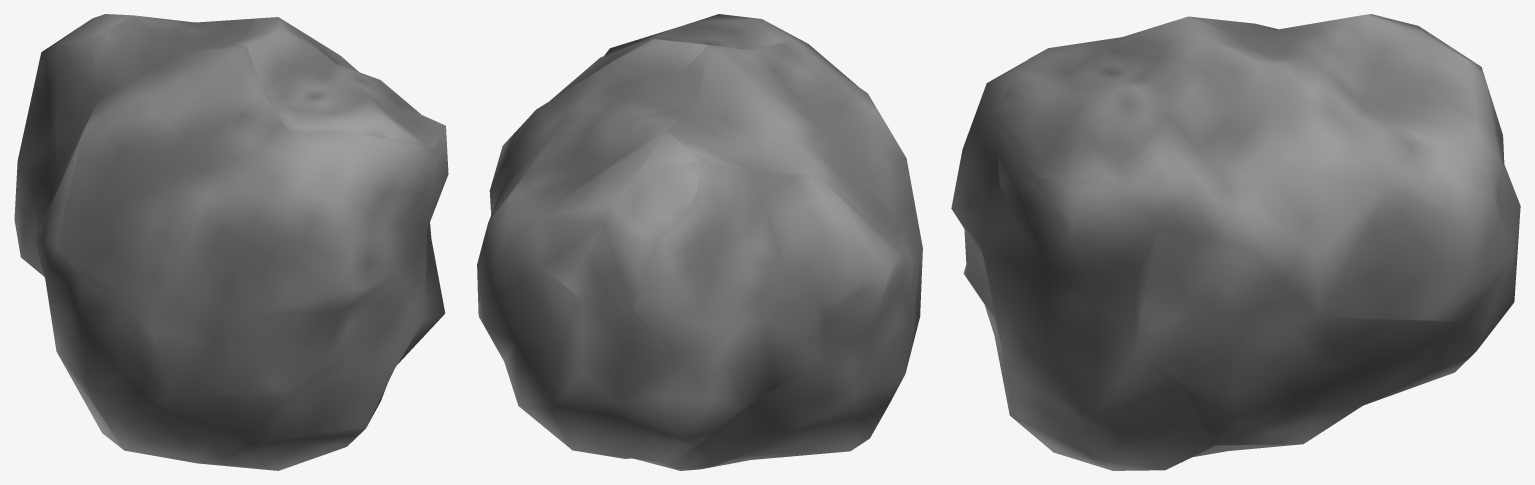
The model's file is AsteroidTypeB_Rock.fbx.
3 views of the same model, side by side, from view 1: azimuth 30°, elevation 25°; view 2: azimuth 150°, elevation 25°; view 3: azimuth 270°, elevation 25° (orthographic). The views are drawn at different scales.
Visible parts, largest first — view 1: Asteroid8_LOD1; view 2: Asteroid8_LOD1; view 3: Asteroid8_LOD1.
Part boxes in pixels (x1,y1,x2,y2): Asteroid8_LOD1: (14, 14, 448, 470); Asteroid8_LOD1: (477, 14, 922, 470); Asteroid8_LOD1: (951, 14, 1520, 470).
Size of the model in its own units: 2456 by 2482 by 2926.
